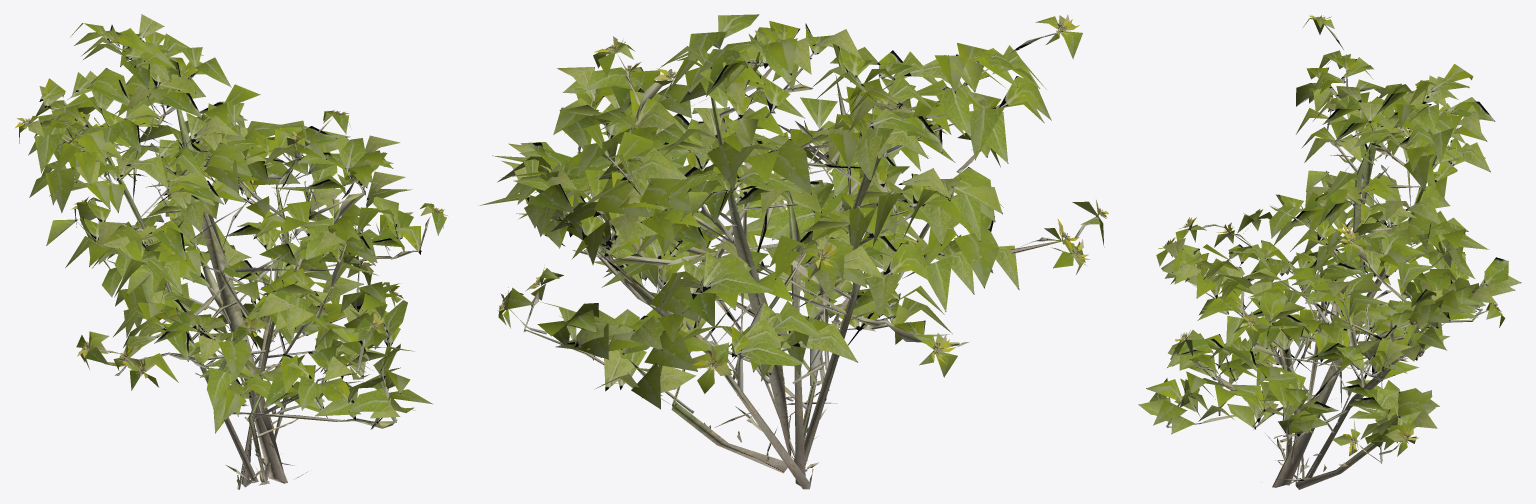
The model's file is didelta_spinosa.glb.
3 views of the same model, side by side, from view 1: azimuth 30°, elevation 25°; view 2: azimuth 150°, elevation 25°; view 3: azimuth 270°, elevation 25° (orthographic). The views are drawn at different scales.
Parts seen in each view (by area): view 1: didelta_spinosa_large_LOD0; view 2: didelta_spinosa_large_LOD0; view 3: didelta_spinosa_large_LOD0.
Boxes of the visible parts, x1,y1,x2,y2 form: didelta_spinosa_large_LOD0: (15,14,447,489); didelta_spinosa_large_LOD0: (480,14,1108,489); didelta_spinosa_large_LOD0: (1138,14,1521,489).
Size of the model in its own units: 2.12 by 2.08 by 1.87.
Materials: 1 (1 with a texture image).
